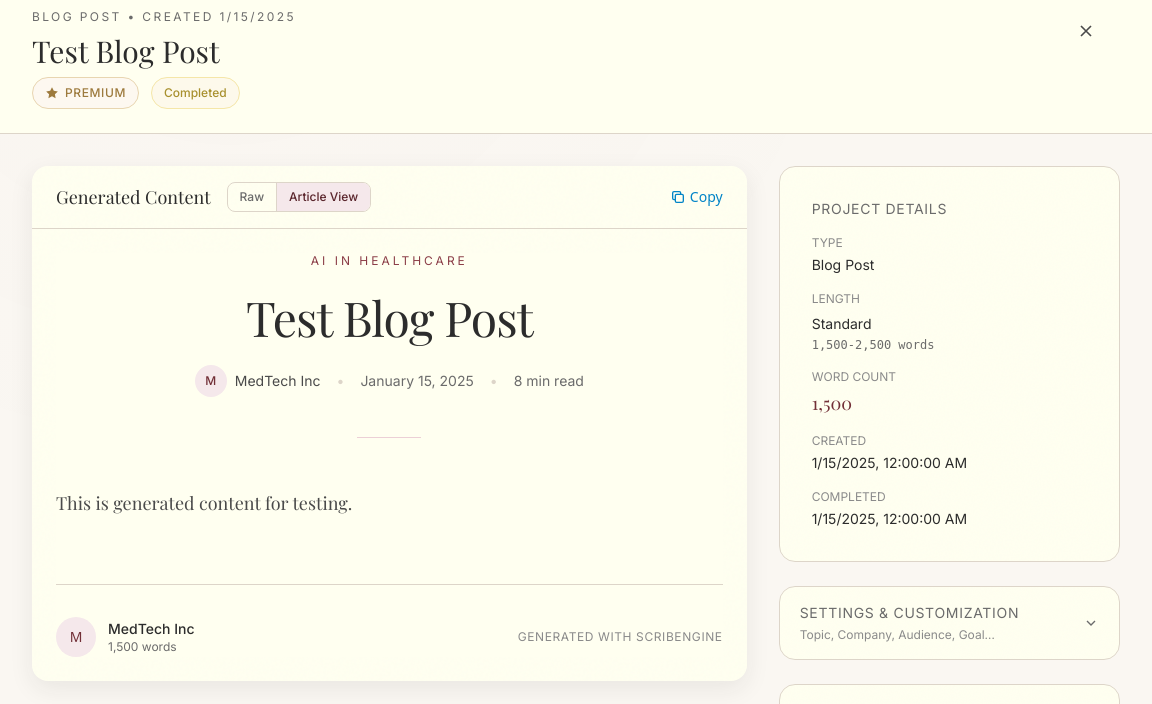
Scenario: Project Settings Panel › Change Detection › shows Save/Reset when style selection changes
Click the heading "Settings & Customization" at (909, 613), box [800,603,1019,623]
(page scrolled)
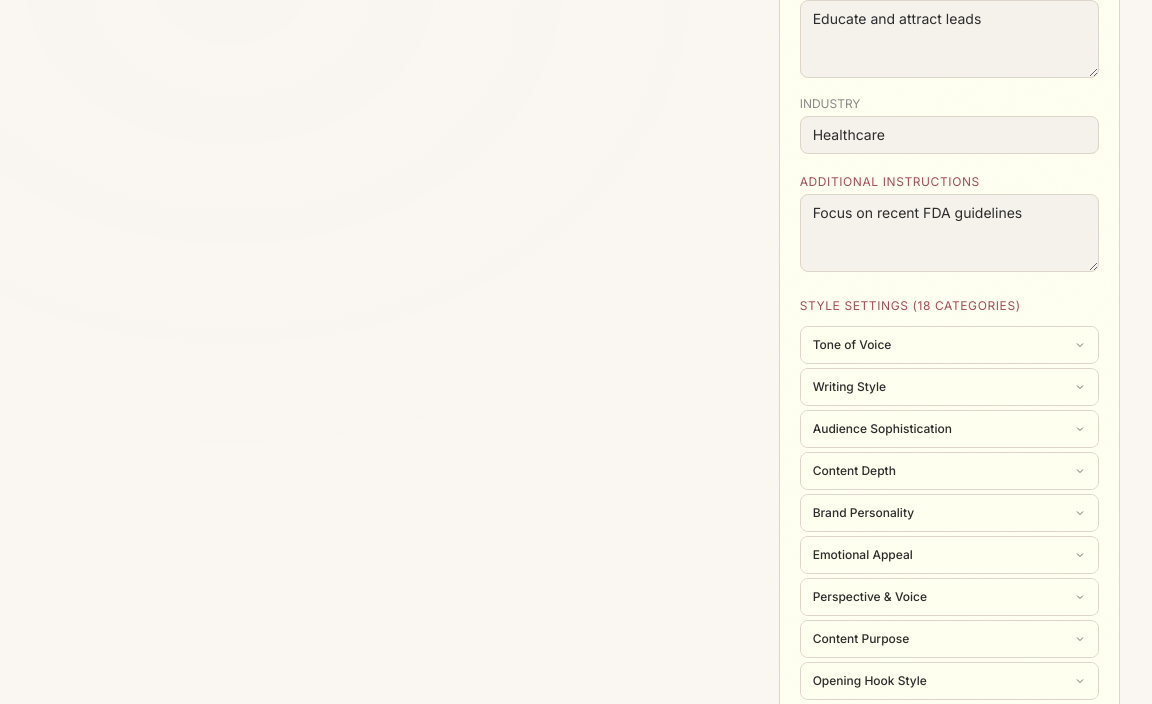
Click the button "Tone of Voice" at (852, 344), box [801,327,1098,363]
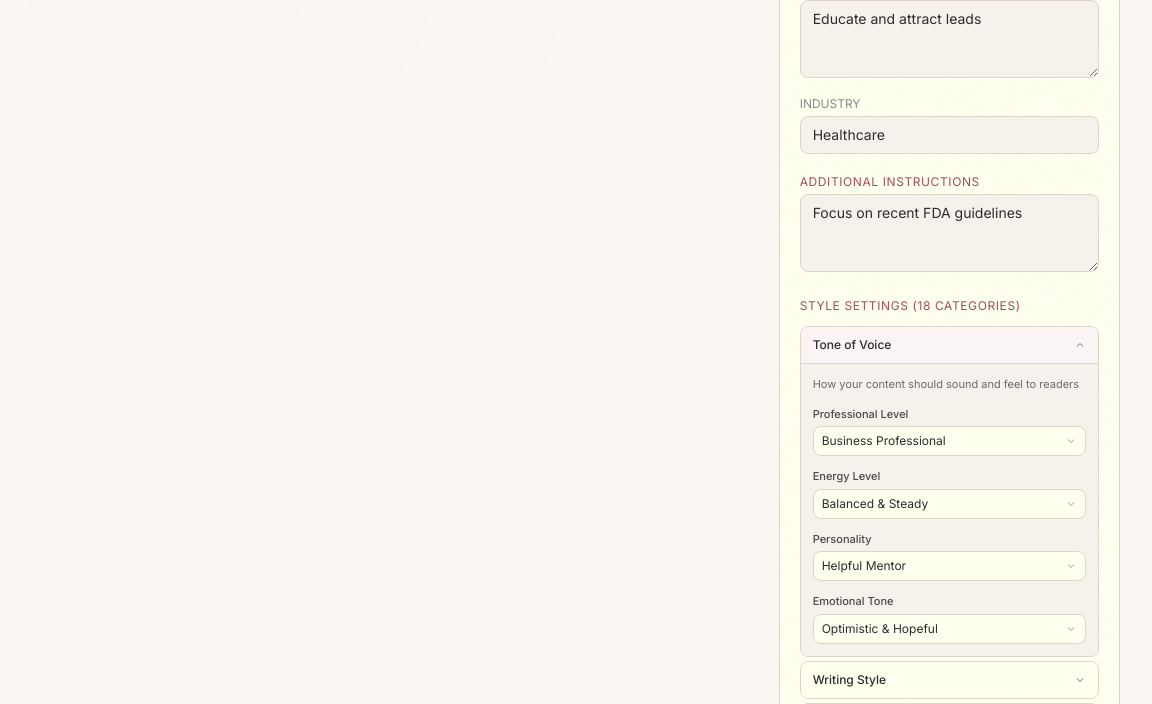
Select "Corporate Formal" in the dropdown below "Professional Level" at (949, 441), box [813,426,1086,456]
(page scrolled)
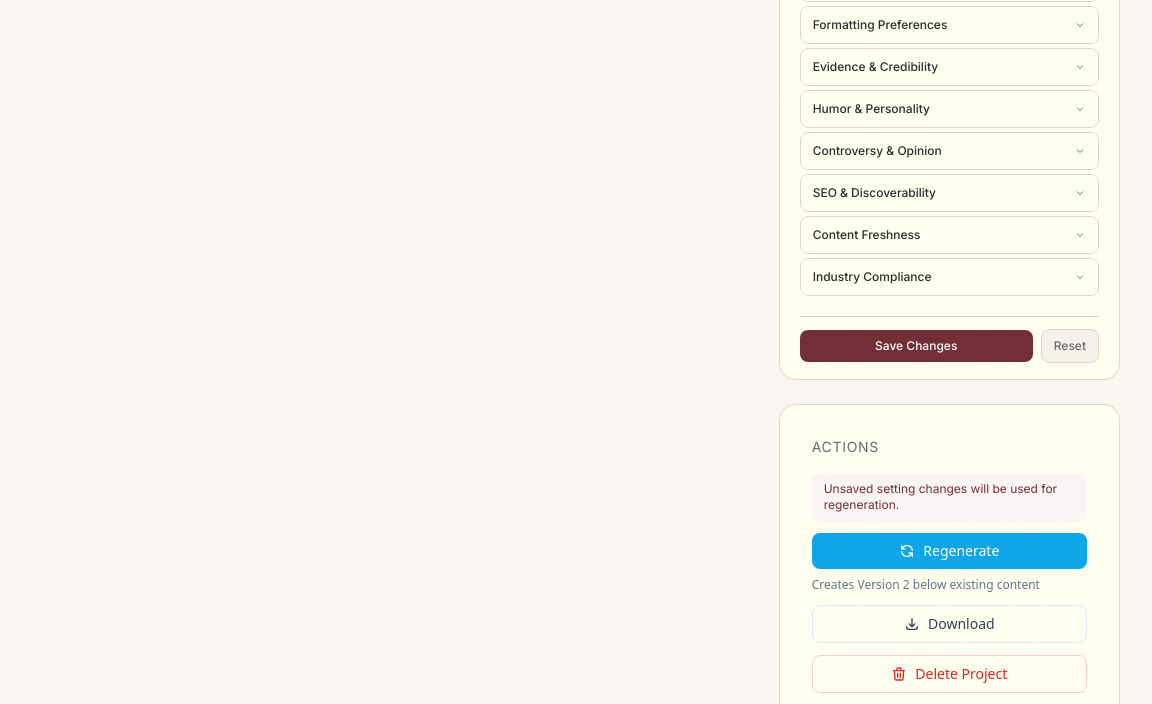
Check: the button "Save Changes" is shown, box [800,330,1033,362]
